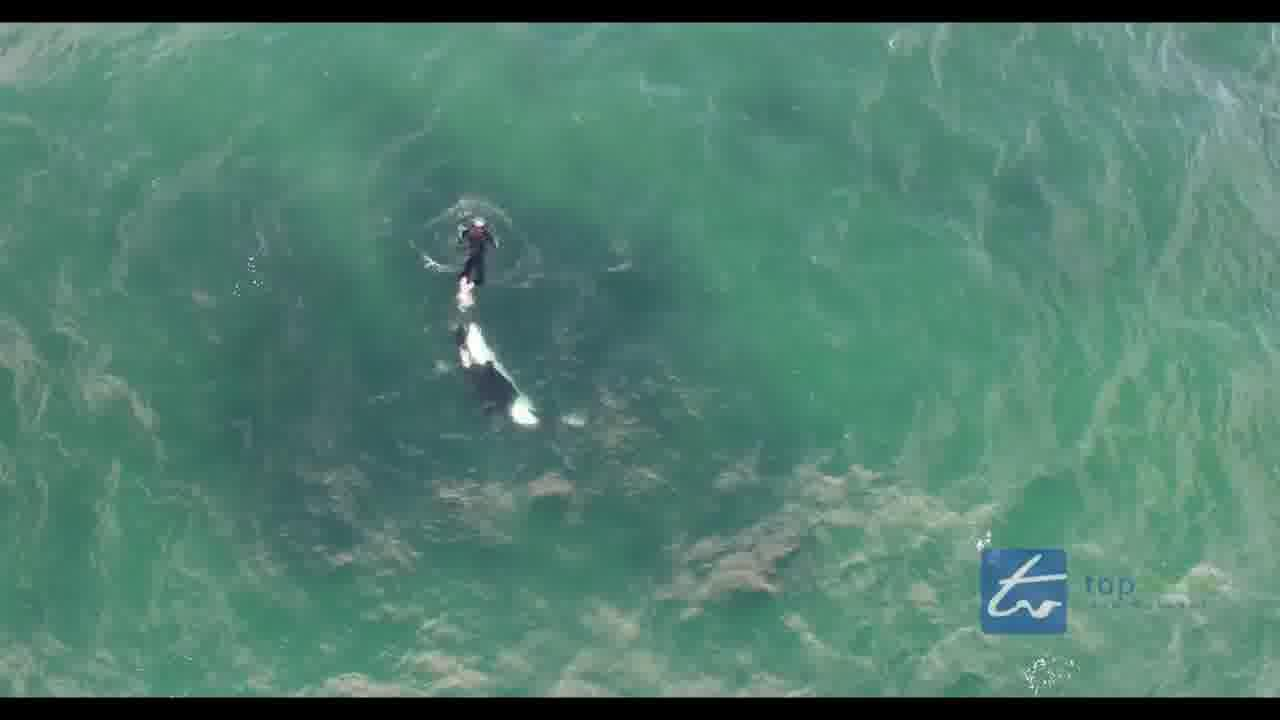swimmer: (447, 210, 506, 306)
